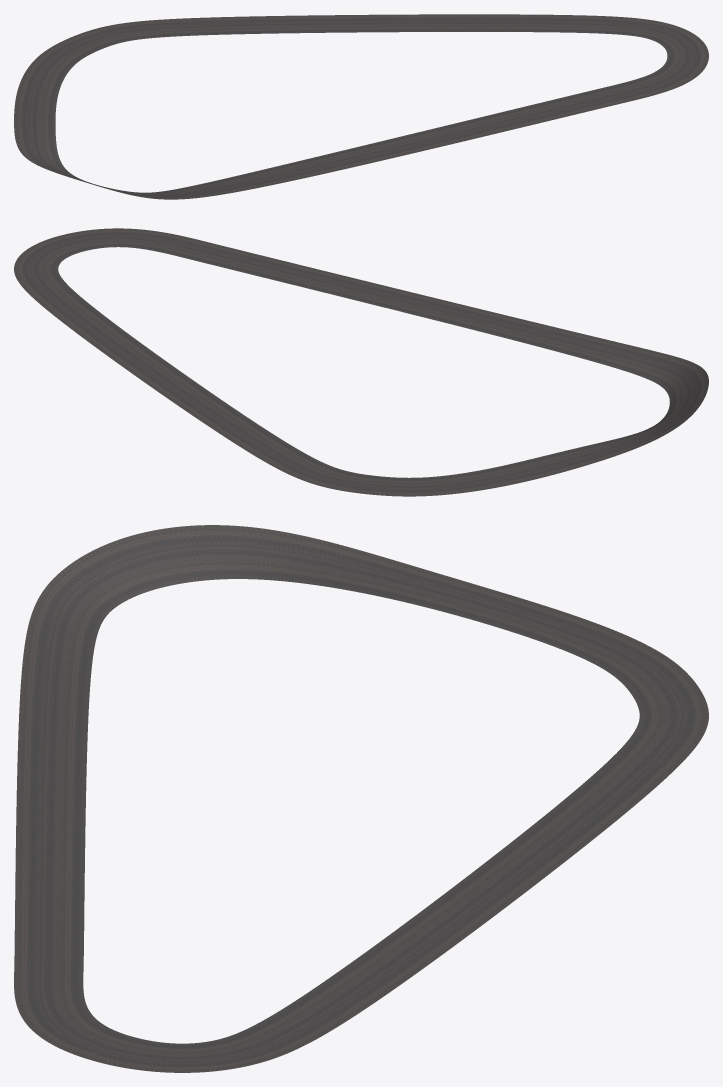
Rendered from disp_road.obj.
3 views of the same model, one above another, from view 1: azimuth 30°, elevation 25°; view 2: azimuth 150°, elevation 25°; view 3: azimuth 270°, elevation 25° (orthographic). The views are drawn at different scales.
Visible parts, largest first — view 1: disp_road.001_Plane.014; view 2: disp_road.001_Plane.014; view 3: disp_road.001_Plane.014.
Boxes of the visible parts, x1,y1,x2,y2 form: disp_road.001_Plane.014: [14, 14, 708, 199]; disp_road.001_Plane.014: [14, 228, 708, 496]; disp_road.001_Plane.014: [14, 525, 708, 1072].
Size of the model in its own units: 548 by 15.53 by 308.
1 material, 1 textured.
